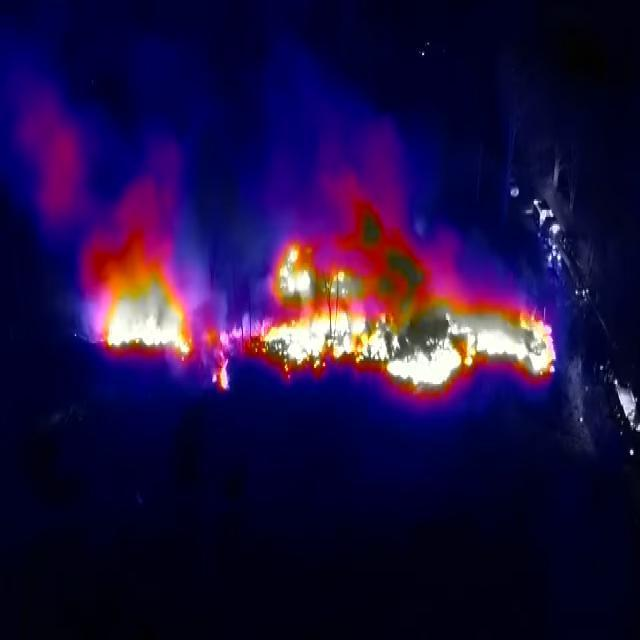fire: (208, 221, 558, 401), (96, 235, 196, 366)
